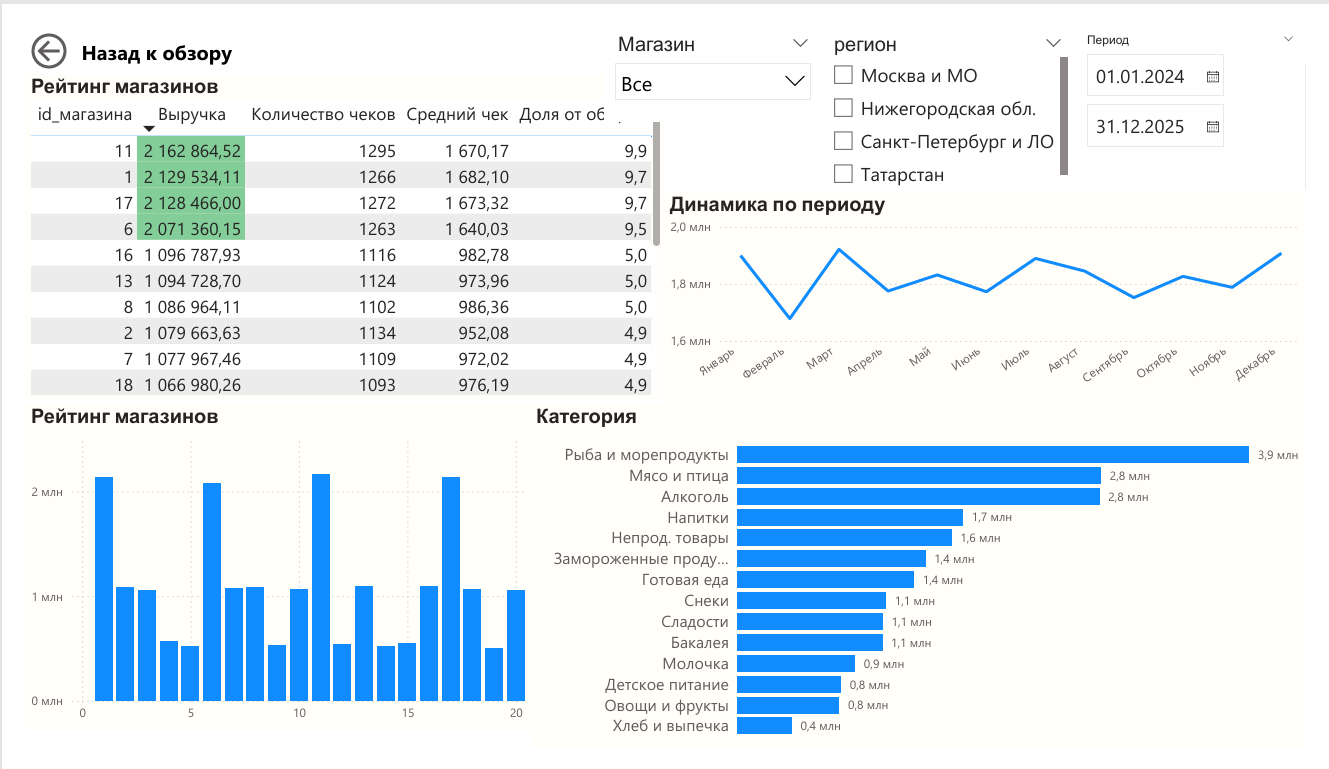

Layout of this report page (visuals, bound fields, positions):
{"tool":"powerbi","page":{"name":" Детали","canvas":[1280,720],"ordinal":1},"visuals":[{"type":"slicer","fields":{"Values":["dim_calendar.Date"]},"box":[1048.2,0,232.2,119.3],"z":0},{"type":"slicer","fields":{"Values":["dim_stores.регион"]},"box":[795.3,0,252.9,165.4],"z":1000},{"type":"actionButton","title":"Назад","box":[0,0,210,46.1],"z":2000},{"type":"tableEx","title":"Рейтинг магазинов","fields":{"Values":["dim_stores.id_магазина","fact_sales.Выручка","fact_sales.Количество чеков","fact_sales.Средний чек","fact_sales.Доля от общего"]},"box":[0,46.7,640,325],"z":3000},{"type":"slicer","fields":{"Values":["fact_sales.id_магазина"]},"box":[579,0,216.3,95.4],"z":4000},{"type":"lineChart","title":"Динамика по периоду","fields":{"Category":["fact_sales.дата_время.Изменение.Иерархия дат.Год","fact_sales.дата_время.Изменение.Иерархия дат.Квартал","fact_sales.дата_время.Изменение.Иерархия дат.Месяц","fact_sales.дата_время.Изменение.Иерархия дат.День"],"Y":["fact_sales.Выручка"]},"box":[639.4,165.4,641,211.6],"z":5000},{"type":"clusteredBarChart","title":"Категория","fields":{"Category":["dim_products.категория Иерархия.категория","dim_products.категория Иерархия.подкатегория"],"Y":["fact_sales.Выручка"]},"box":[505,376.7,775,343.3],"z":6000},{"type":"clusteredColumnChart","title":"Рейтинг магазинов","fields":{"Y":["fact_sales.Выручка"],"Category":["fact_sales.id_магазина"]},"box":[0,377,504.2,326.1],"z":7000}]}

Visuals, with their boxes in screenshot pixels (x1, y1, x2, y2), scaled from the page's 1280x720 canvas onto the 1329x769 screenshot:
slicer - dim_calendar.Date: <bbox>1088, 0, 1328, 127</bbox>
slicer - dim_stores.регион: <bbox>826, 0, 1088, 177</bbox>
"Назад" actionButton: <bbox>0, 0, 218, 49</bbox>
"Рейтинг магазинов" tableEx: <bbox>0, 50, 664, 397</bbox>
slicer - fact_sales.id_магазина: <bbox>601, 0, 826, 102</bbox>
"Динамика по периоду" lineChart: <bbox>664, 177, 1328, 403</bbox>
"Категория" clusteredBarChart: <bbox>524, 402, 1328, 768</bbox>
"Рейтинг магазинов" clusteredColumnChart: <bbox>0, 403, 524, 751</bbox>
